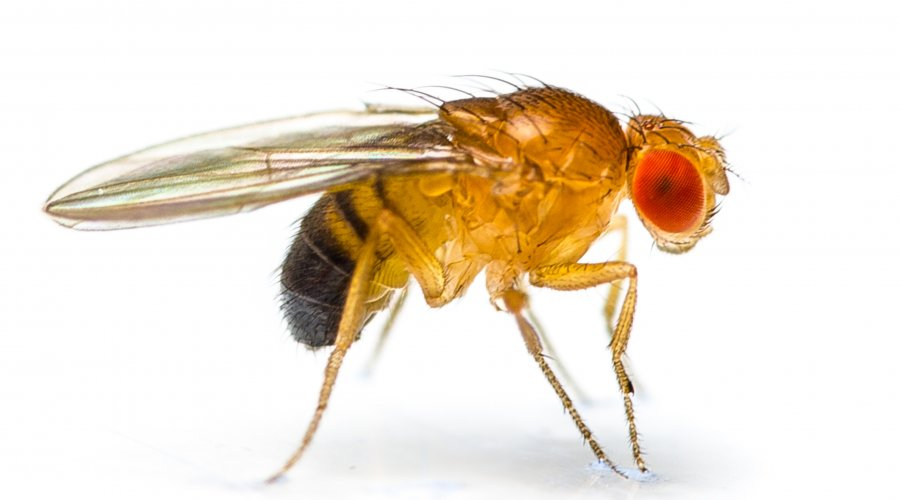Fruit fly: (80, 48, 712, 463)
